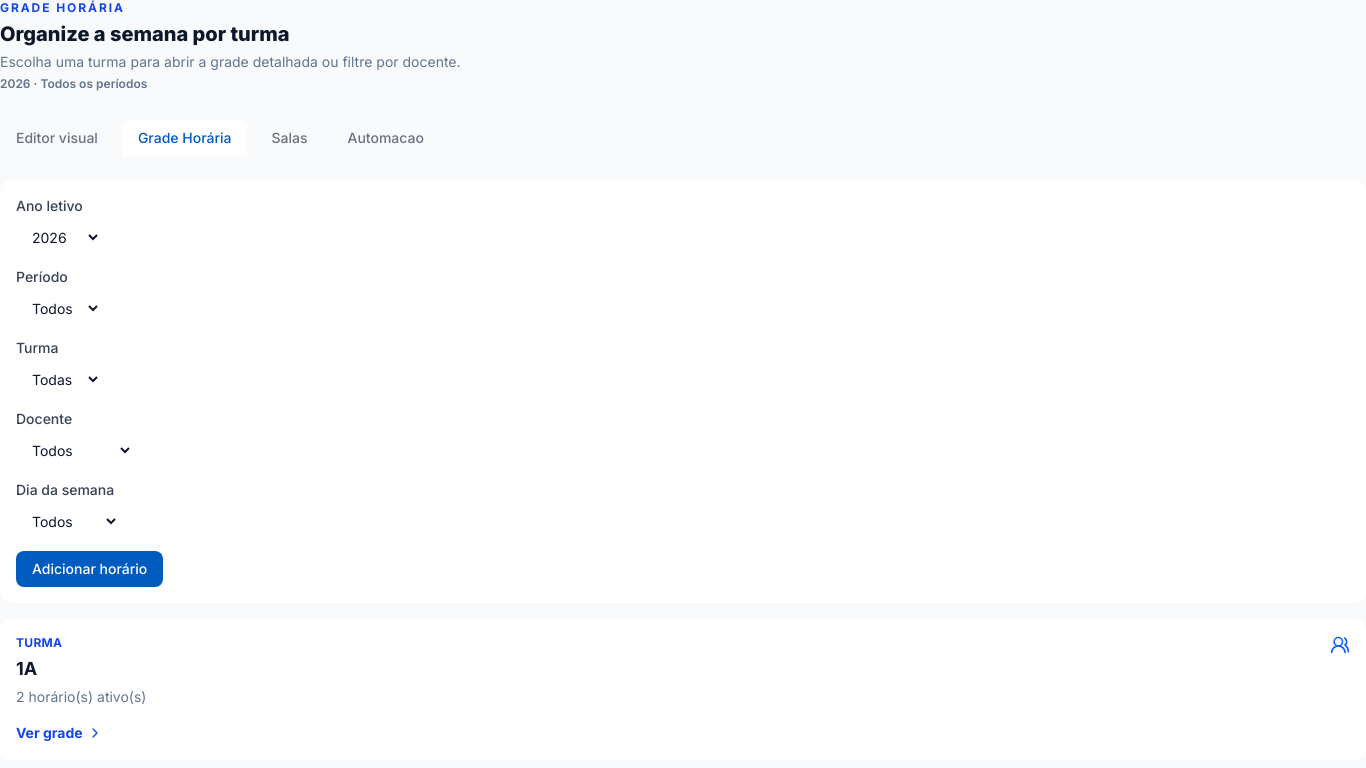
TimetableTab › mostra contexto de turma quando filtrado por docente e permite editar o card
Select "Prof Silva" in the dropdown labelled "Docente" at (74, 450), box left=16, top=433, right=133, bottom=468
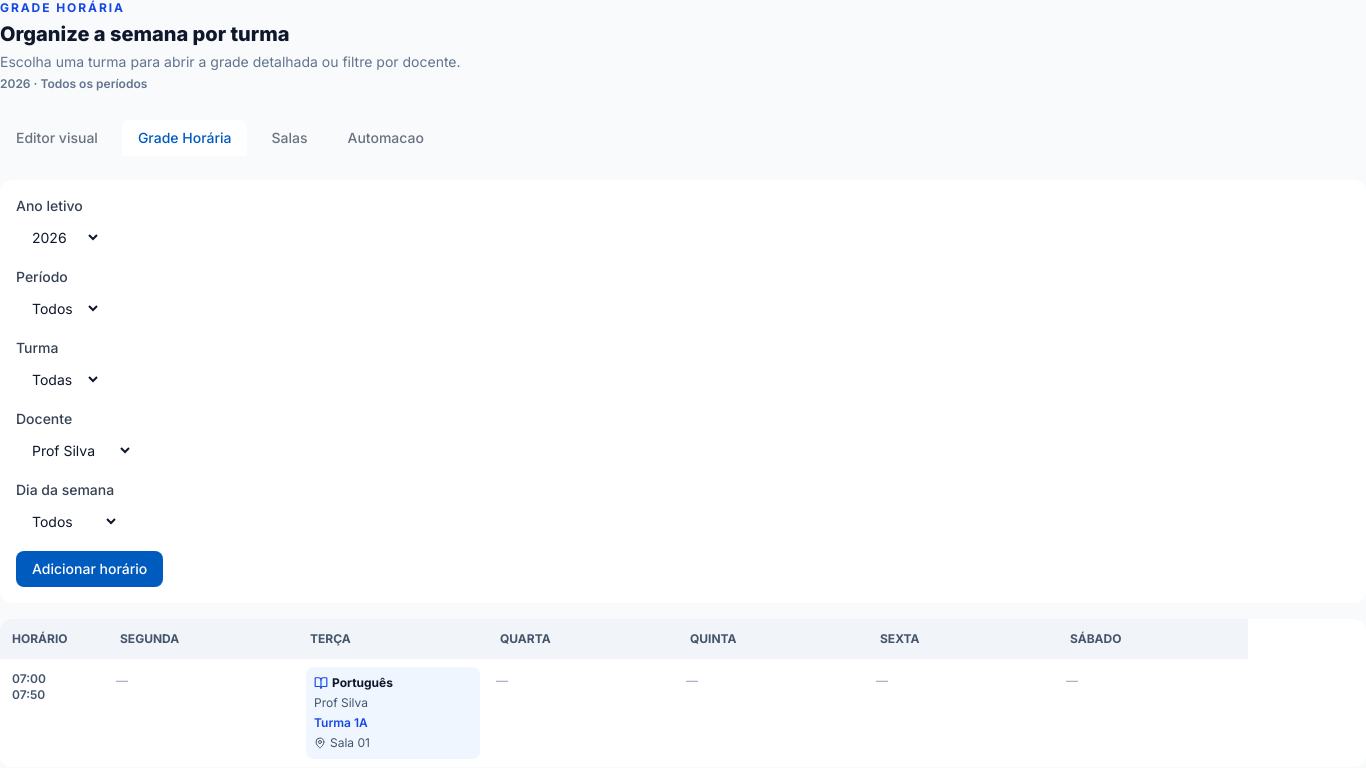
Expected: the text "Turma 1A" is shown, left=314, top=715, right=368, bottom=730
Click the button with aria-label "Editar Português 07:00" at (393, 713), box left=306, top=667, right=480, bottom=759
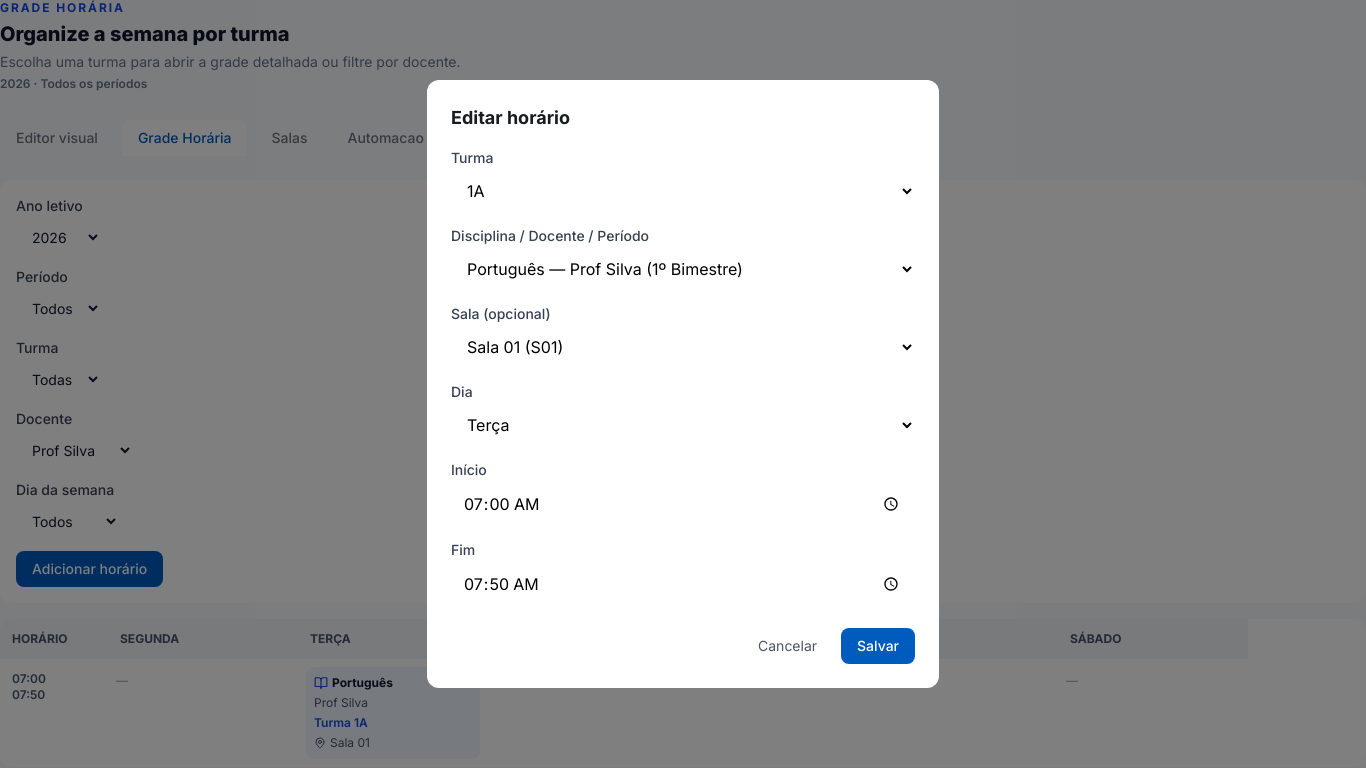
Expected: the dropdown labelled "Disciplina / Docente / Período" is shown, left=451, top=250, right=915, bottom=288
